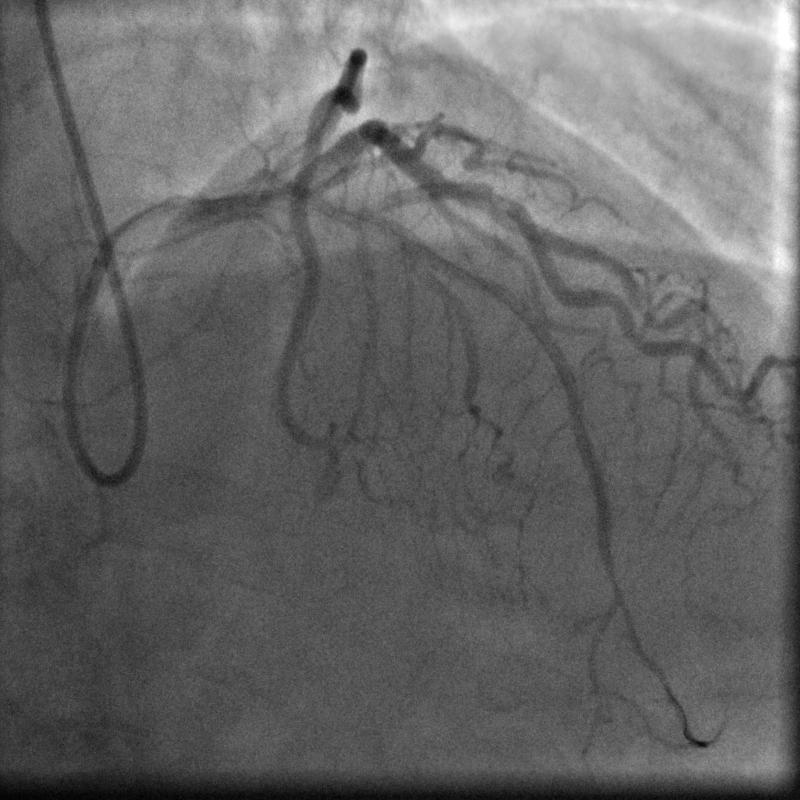Stenosis: (479, 180, 516, 213)
